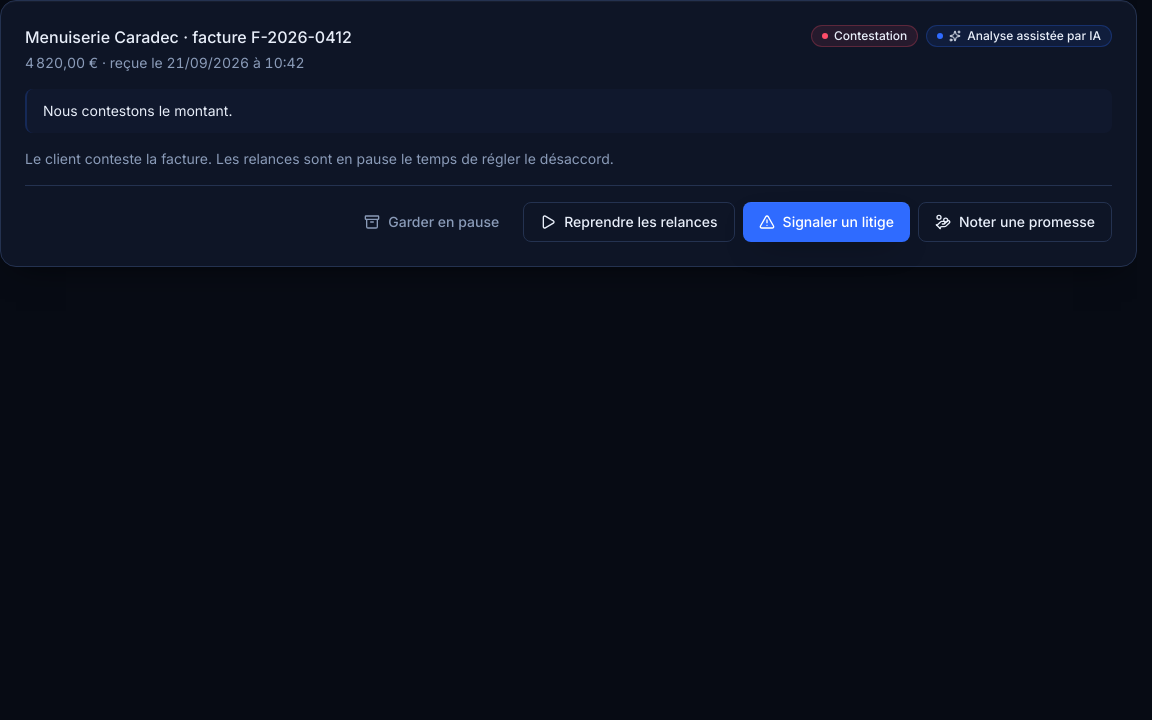
Scenario: ReplyCard › transmet la décision du membre et confirme par une notification
The image size is (1152, 720).
Click the button "Reprendre les relances" at [629, 222], box [523,202,735,242]
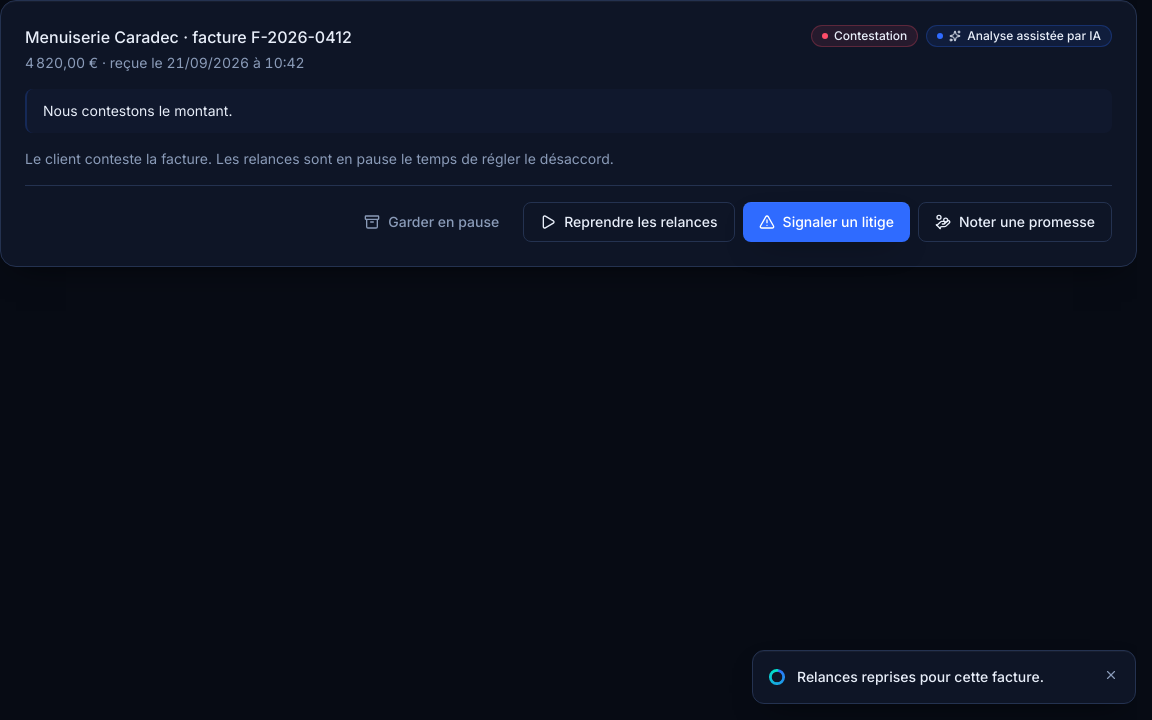
Now the text "Relances reprises pour cette facture." is shown, box [797,668,1044,685]
